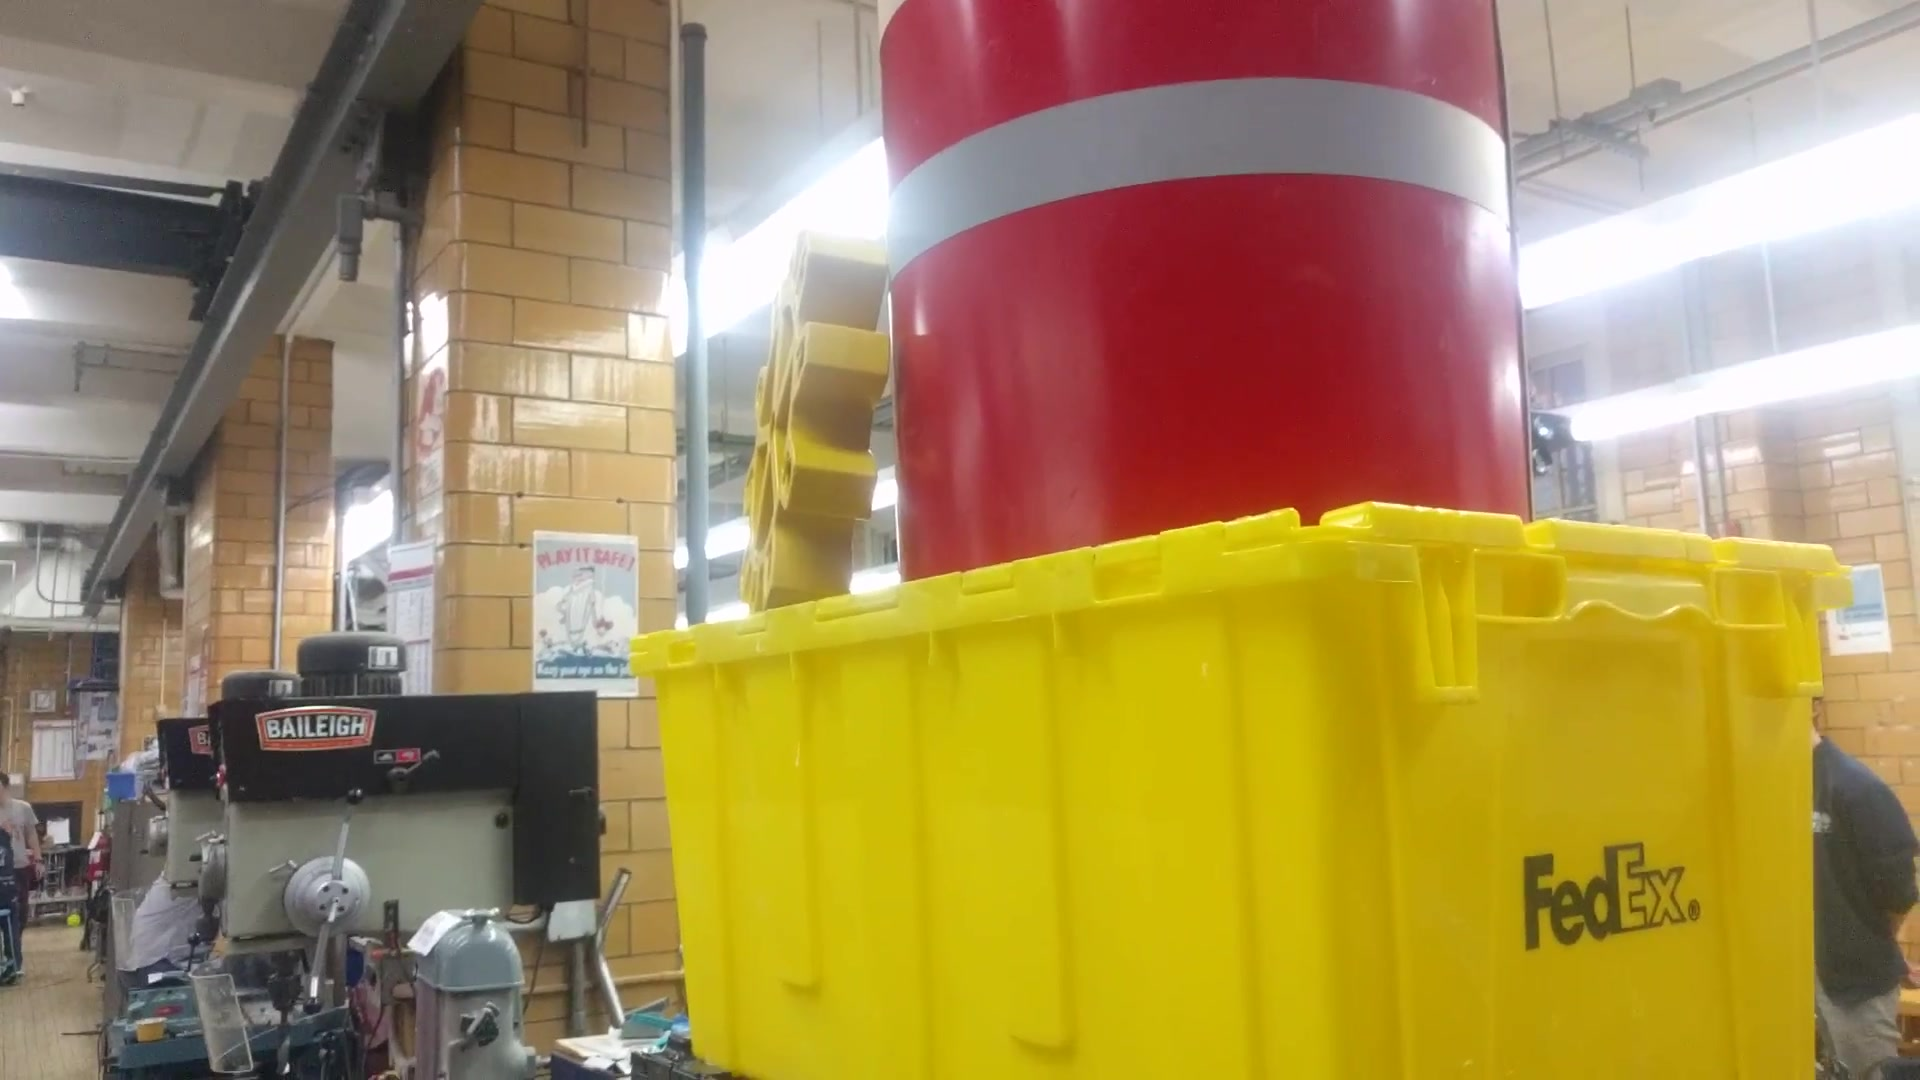gear: (736, 206, 903, 611)
